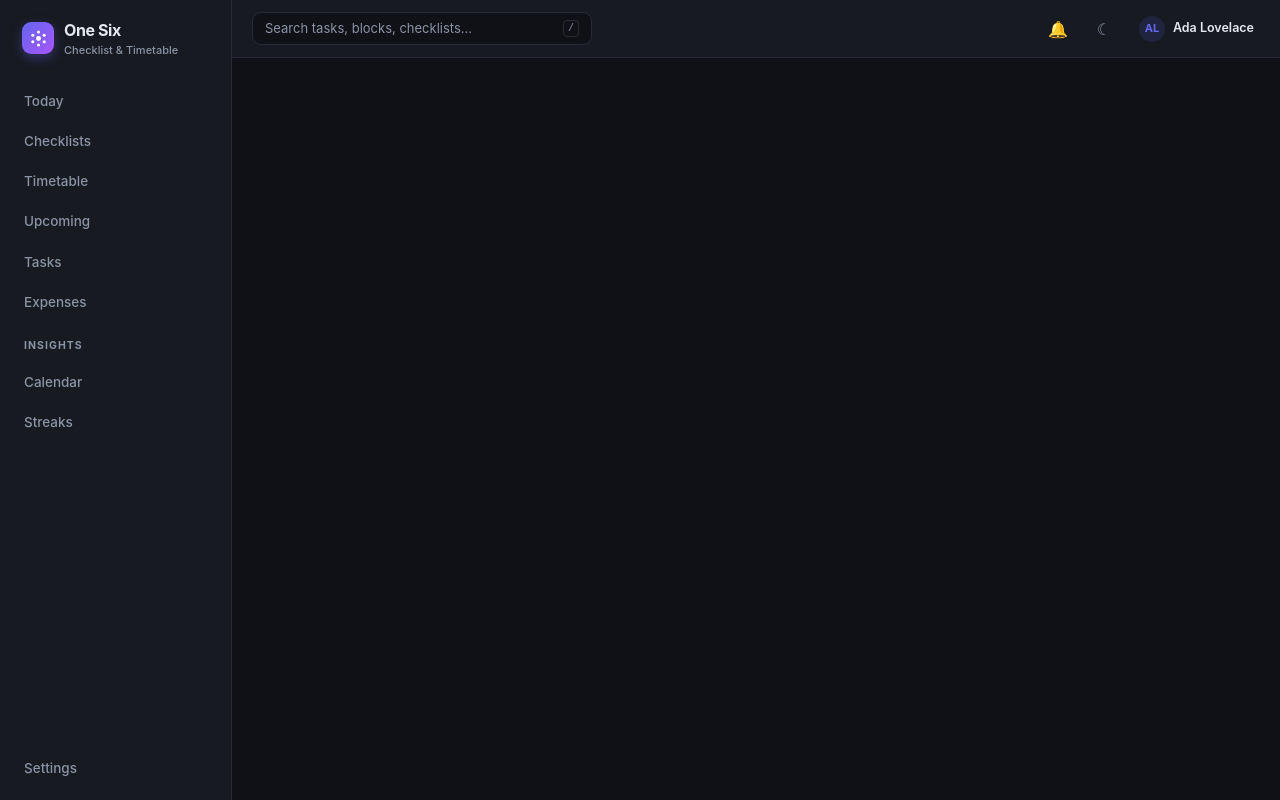
AppShellComponent user menu › shows the signed-in user and an Account link, but no Admin link for normal users
Step 1. Click the button "AL Ada Lovelace" → (1196, 28), box [1133, 12, 1260, 46]
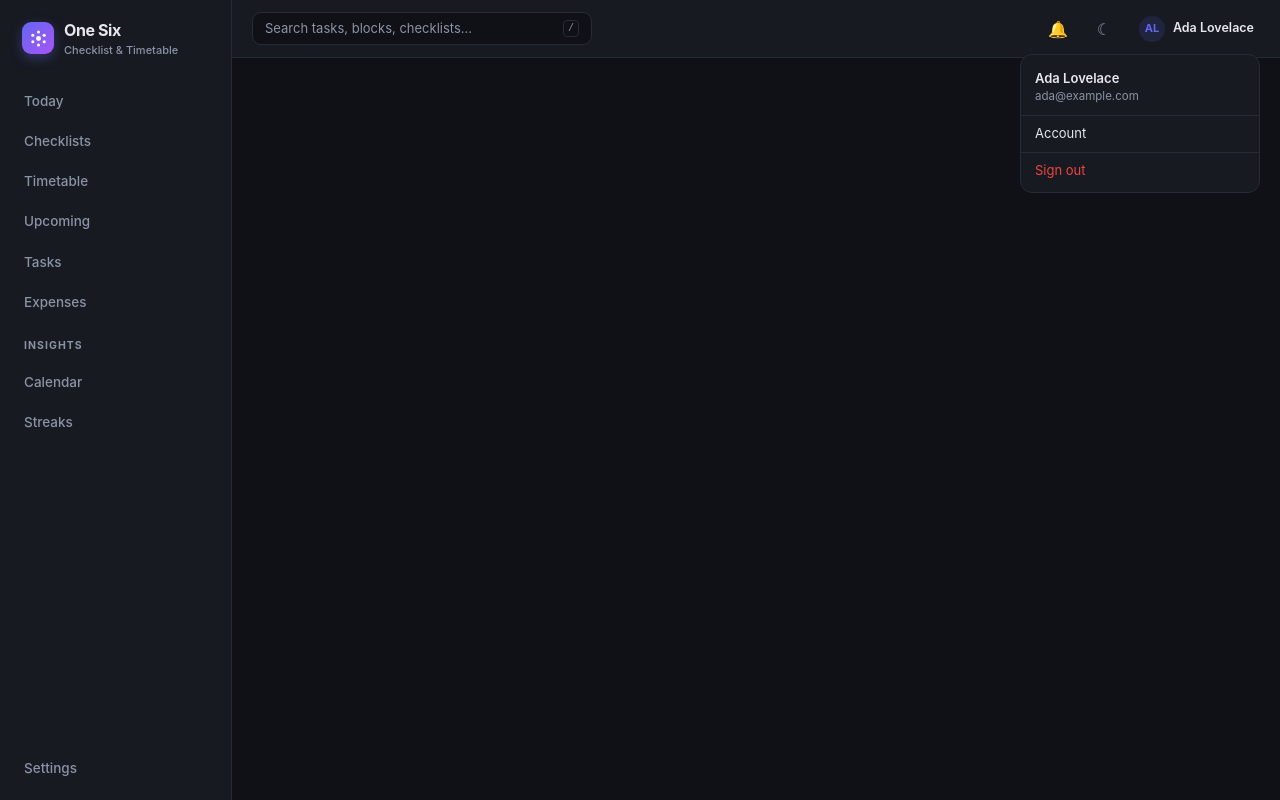
Expected: the 1st text "Ada Lovelace" is shown, [1173, 19, 1254, 38]
Result: the text with test id "user-menu-email" reads "ada@example.com" at [1035, 89, 1139, 103]
Result: the menu item to "/account" is shown at [1035, 125, 1086, 141]
